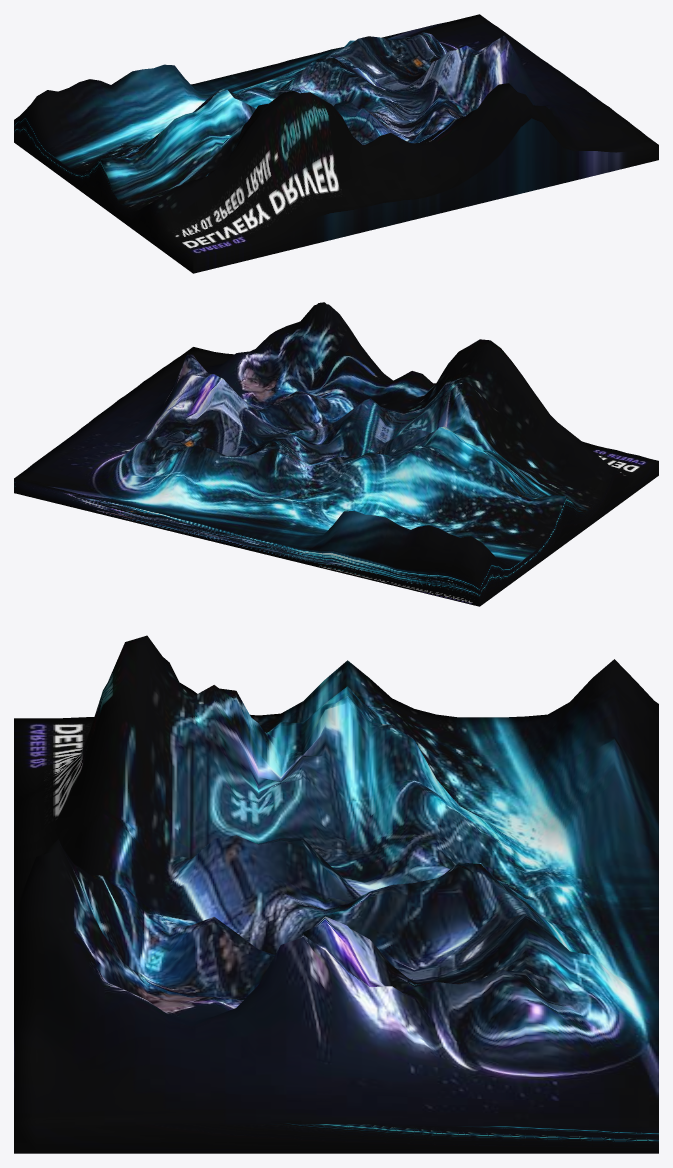
File: CAREER_02_VFX_01_Speed_Trail.glb
3 views of the same model, one above another, from view 1: azimuth 30°, elevation 25°; view 2: azimuth 150°, elevation 25°; view 3: azimuth 270°, elevation 25° (orthographic). The views are drawn at different scales.
Visible parts, largest first — view 1: CAREER_02_VFX_01_Speed_Trail; view 2: CAREER_02_VFX_01_Speed_Trail; view 3: CAREER_02_VFX_01_Speed_Trail.
Boxes of the visible parts, x1=… form: CAREER_02_VFX_01_Speed_Trail: x1=14, y1=14, x2=658, y2=273; CAREER_02_VFX_01_Speed_Trail: x1=14, y1=302, x2=658, y2=606; CAREER_02_VFX_01_Speed_Trail: x1=14, y1=635, x2=658, y2=1153.
Size of the model in its own units: 2 by 0.51 by 1.33.
Materials: 1 (1 with a texture image).
